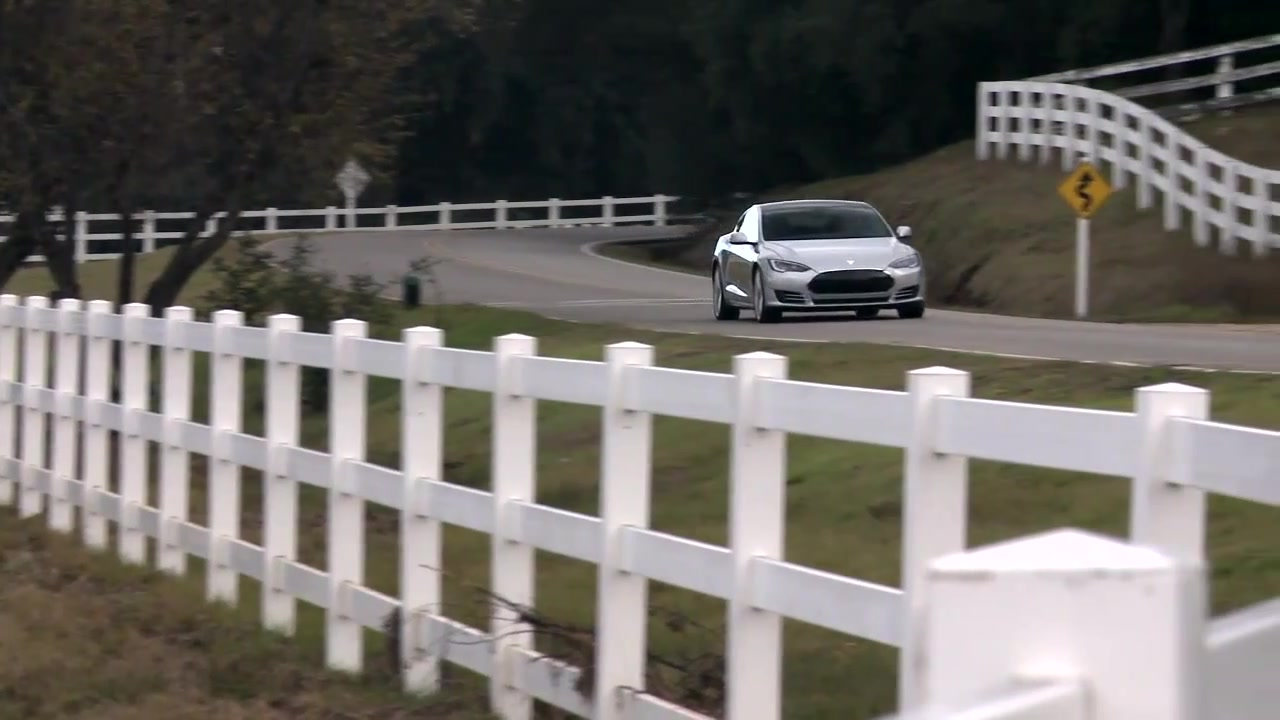car: (703, 203, 930, 329)
